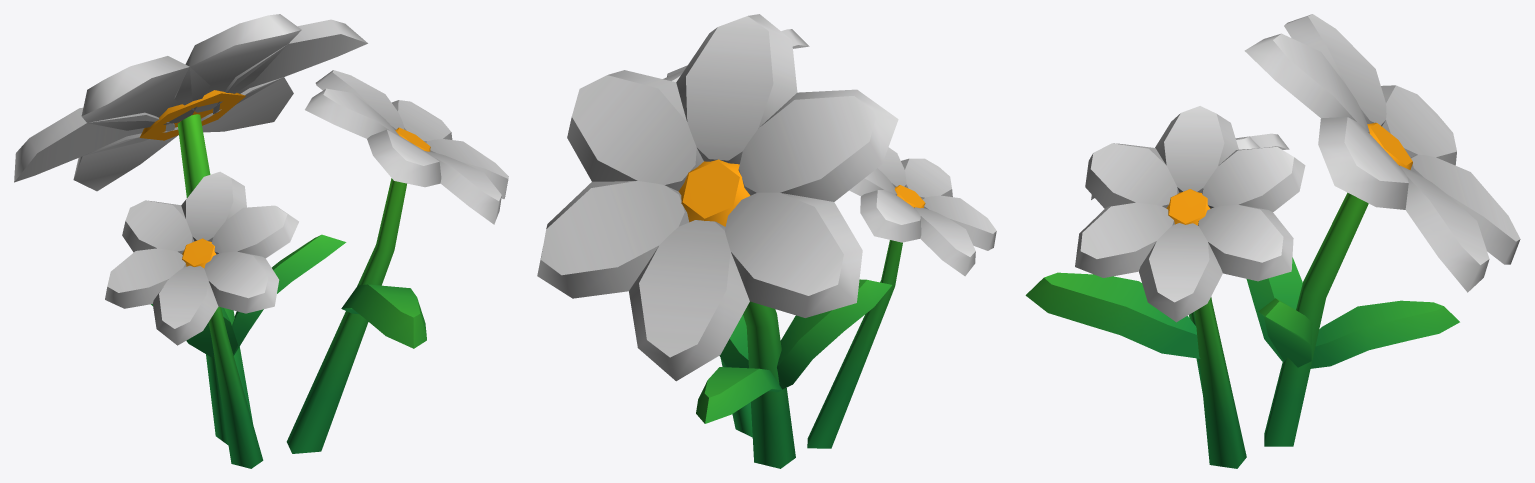
File: Flowers_1_C.fbx
3 views of the same model, side by side, from view 1: azimuth 30°, elevation 25°; view 2: azimuth 150°, elevation 25°; view 3: azimuth 270°, elevation 25° (orthographic). The views are drawn at different scales.
Visible parts, largest first — view 1: Flowers_1_C; view 2: Flowers_1_C; view 3: Flowers_1_C.
Boxes of the visible parts, <box> form: Flowers_1_C: <box>14,14,508,468</box>; Flowers_1_C: <box>537,14,996,468</box>; Flowers_1_C: <box>1025,14,1520,468</box>.
Size of the model in its own units: 39.76 by 41.95 by 45.41.
